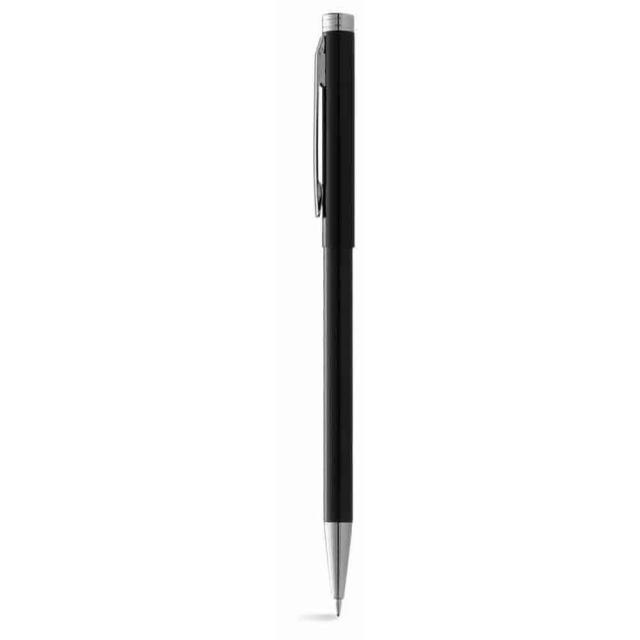pen: (313, 11, 356, 617)
